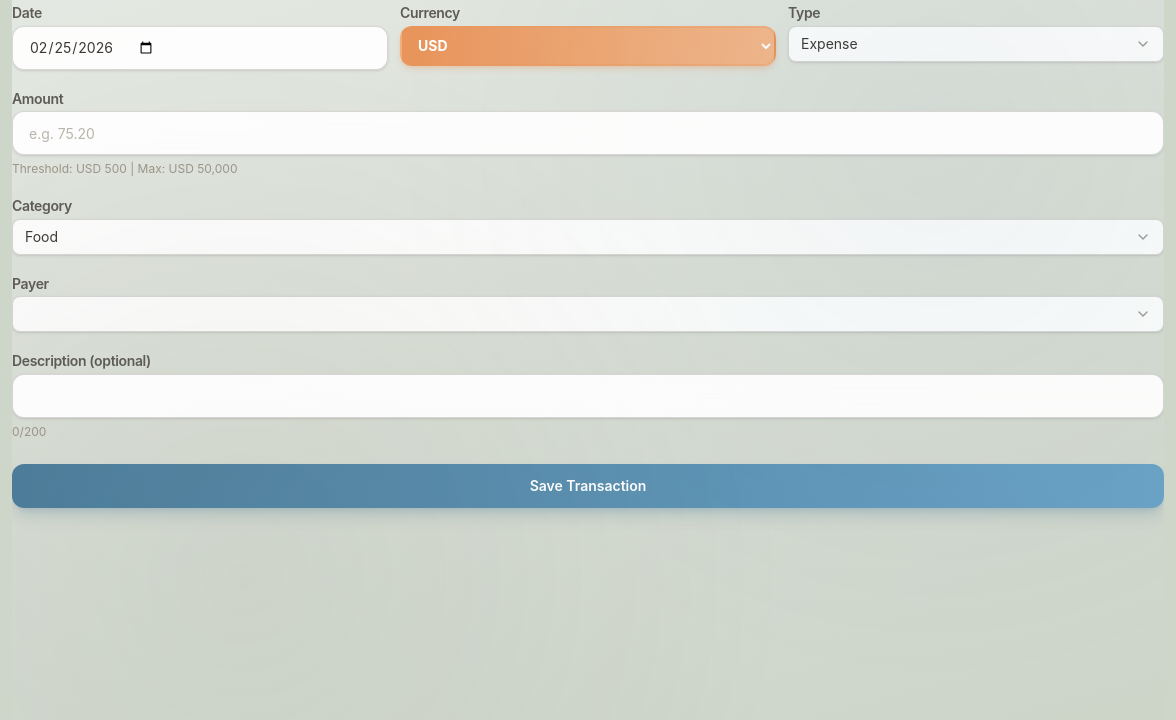
Test case: QuickAddForm › Amount validation › shows error for non-numeric amount
In the field with placeholder "e.g. 75.20": (588, 133) [12,111,1164,155], type "abc"
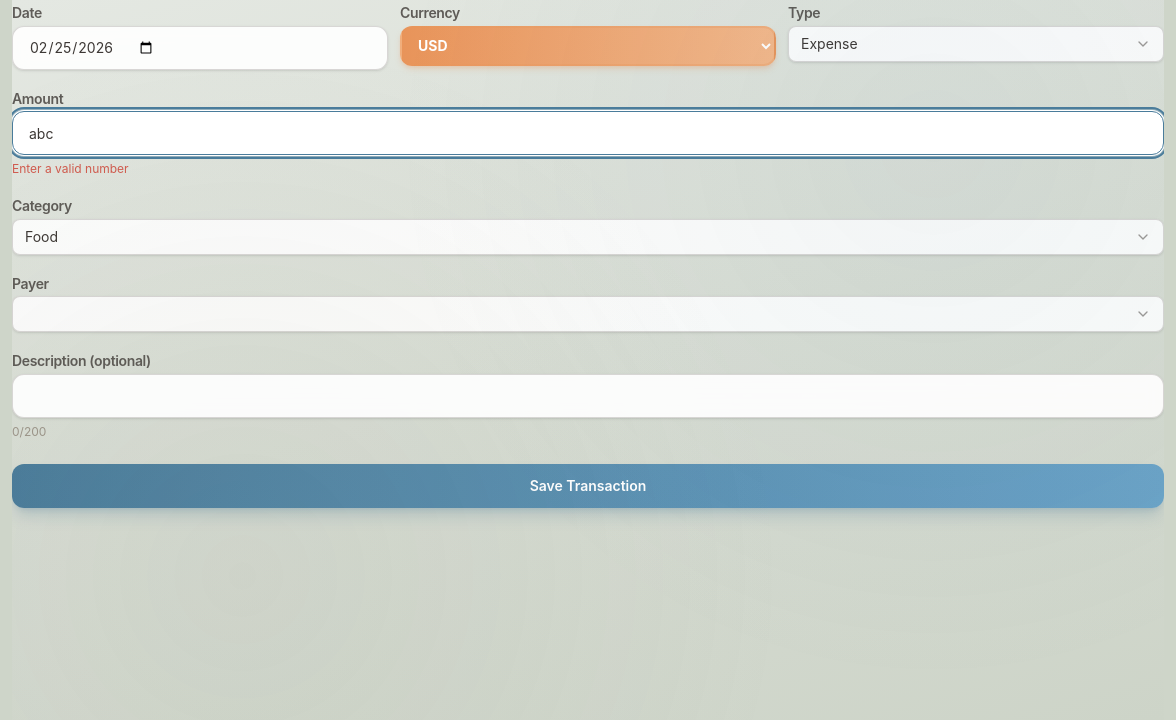
expect the text "Enter a valid number" is shown: met, box [12,161,129,176]
